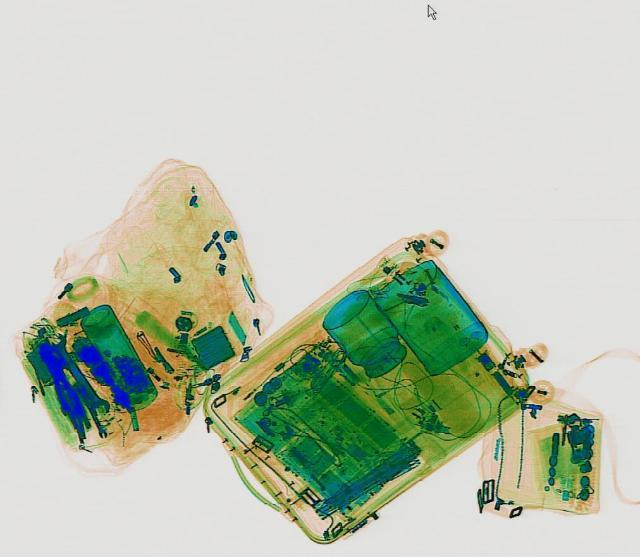Wrench: (40, 329, 114, 419), (80, 405, 110, 438)
